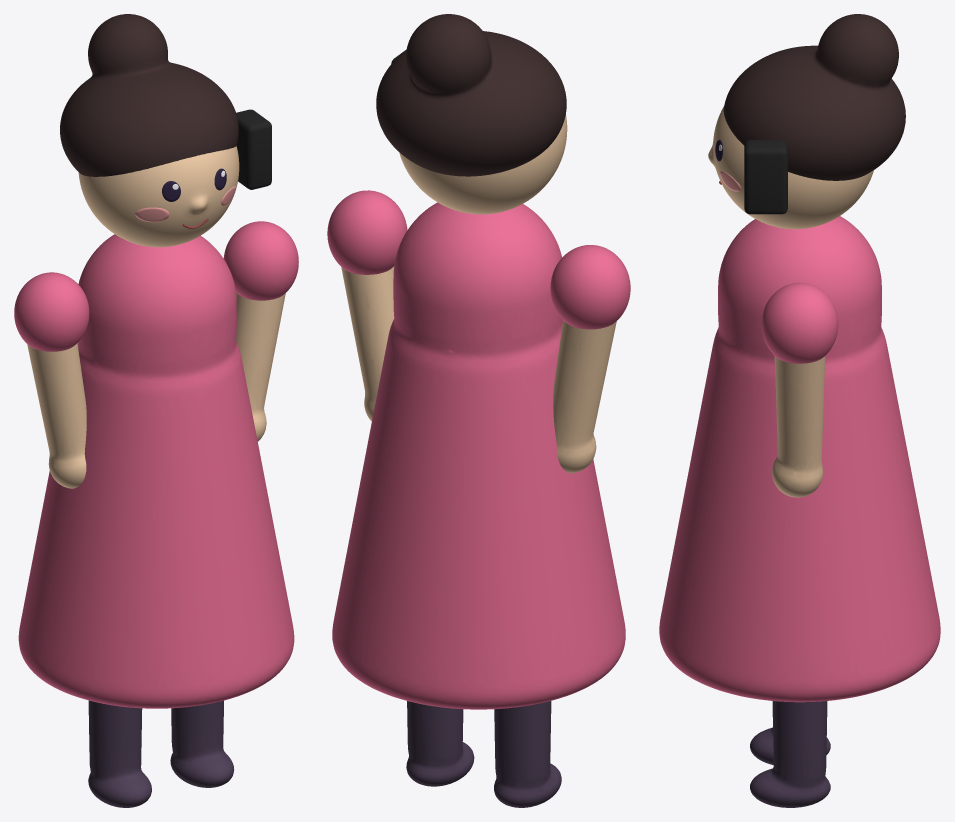
Rendered from owner_hang.glb.
3 renders of one model, left to right at view 1: azimuth 30°, elevation 25°; view 2: azimuth 150°, elevation 25°; view 3: azimuth 270°, elevation 25°, orthographic. The views are drawn at different scales.
Visible parts, largest first — view 1: Torso, Hair, Head, ArmLeft, LegR, SleeveLeft, SleeveRight, LegL, ArmRight, Phone; view 2: Torso, Hair, ArmLeft, LegR, Head, SleeveLeft, SleeveRight, LegL, ArmRight; view 3: Torso, Hair, ArmRight, LegL, Head, SleeveRight, Phone, LegR.
Part boxes in pixels (<box>): Torso: <box>18,234,294,708</box>; Hair: <box>60,14,238,176</box>; Head: <box>78,146,239,247</box>; ArmLeft: <box>27,343,86,488</box>; LegR: <box>88,700,151,807</box>; SleeveLeft: <box>14,272,89,351</box>; SleeveRight: <box>223,221,298,300</box>; LegL: <box>170,700,234,787</box>; ArmRight: <box>236,292,285,441</box>; Phone: <box>236,109,271,189</box>; Torso: <box>332,202,625,709</box>; Hair: <box>376,14,566,176</box>; ArmLeft: <box>553,320,616,473</box>; LegR: <box>494,701,561,807</box>; Head: <box>399,114,567,214</box>; SleeveLeft: <box>550,245,630,329</box>; SleeveRight: <box>327,190,407,274</box>; LegL: <box>406,701,474,786</box>; ArmRight: <box>341,266,394,421</box>; Torso: <box>659,216,940,702</box>; Hair: <box>723,14,905,180</box>; ArmRight: <box>772,356,825,497</box>; LegL: <box>750,701,830,807</box>; Head: <box>708,106,873,229</box>; SleeveRight: <box>761,282,838,363</box>; Phone: <box>744,140,787,214</box>; LegR: <box>750,727,830,764</box>.
Bounding box in the file's own units: 0.6684 × 1.74 × 0.581.
